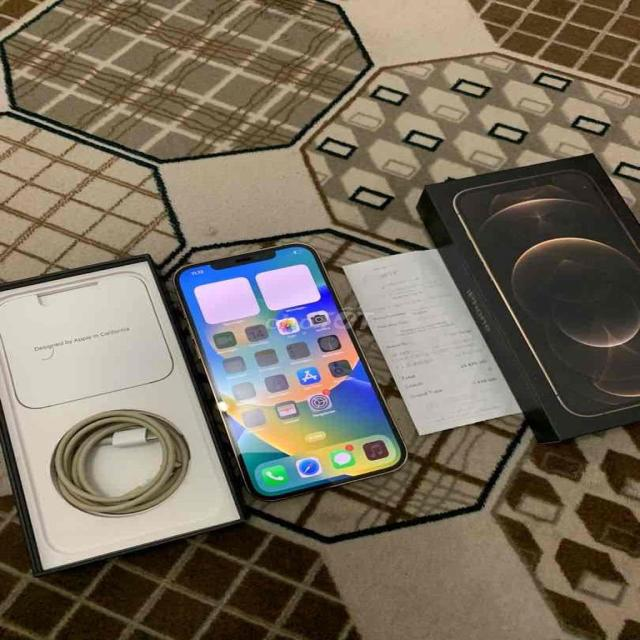gen_12_13: (168, 242, 410, 504)
